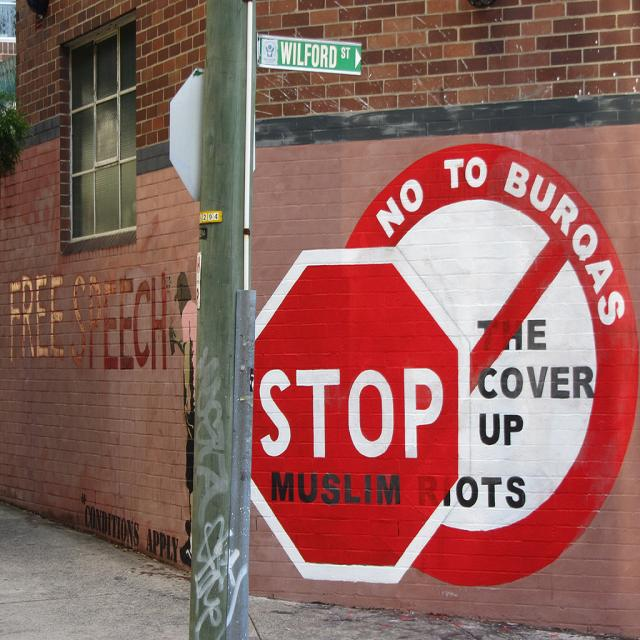Stop-sign: (250, 245, 471, 584)
